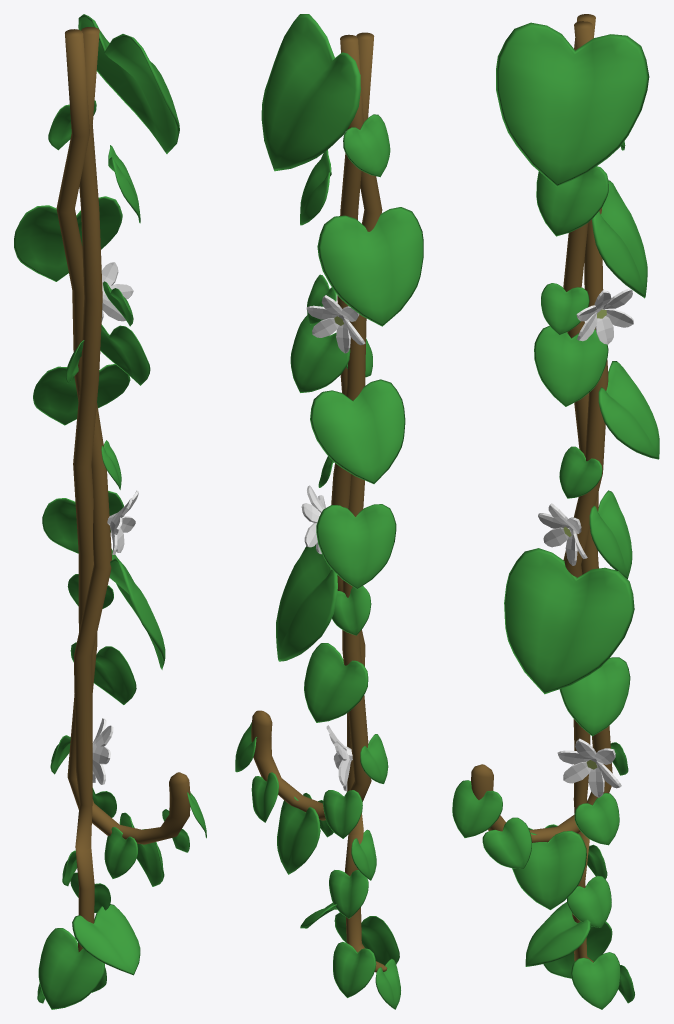
The model's file is vines with flowers 2.glb.
The picture shows the model from 3 angles, left to right: view 1: azimuth 30°, elevation 25°; view 2: azimuth 210°, elevation 25°; view 3: azimuth 270°, elevation 25°; orthographic projection. The views are drawn at different scales.
Parts seen in each view (by area): view 1: flower.011; view 2: flower.011; view 3: flower.011.
Part boxes in pixels (box(x1,y1,x2,y2)): flower.011: box(14, 14, 206, 1009); flower.011: box(235, 14, 423, 1009); flower.011: box(452, 14, 659, 1009).
Size of the model in its own units: 1.2 by 9.27 by 1.74.
